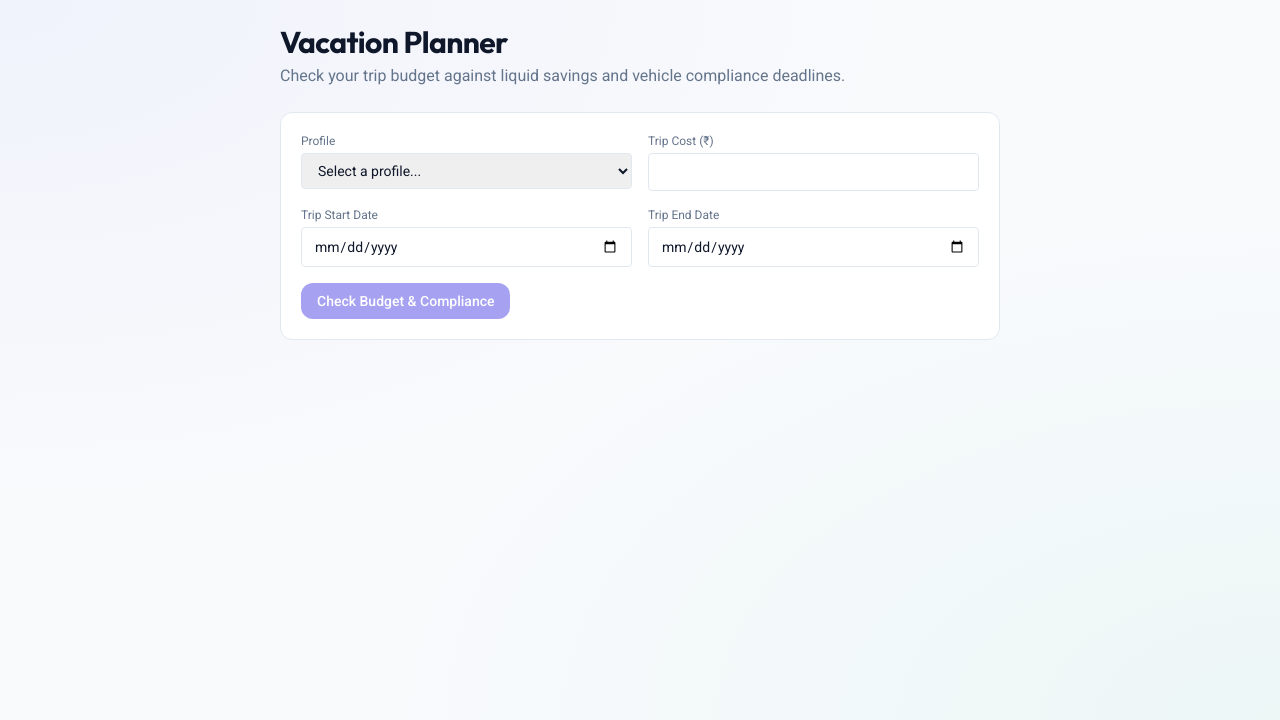
Test case: VacationPlanner page › shows UNAVAILABLE budget status with message when liquidity data is missing
Select "Alice" in the dropdown labelled "Profile" at (466, 171), box x1=301 y1=153 x2=632 y2=189
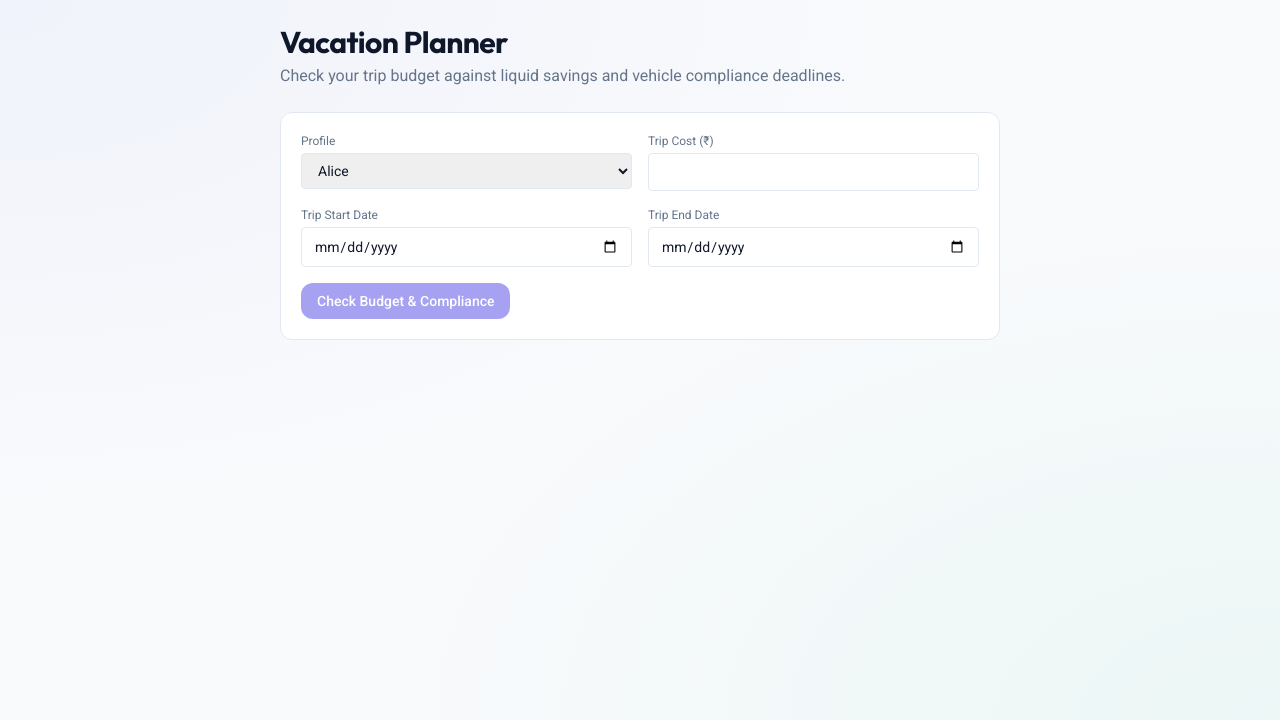
Type "50000" into the number field labelled "Trip Cost (₹)".
click(814, 172); type("50000")  # box x1=648 y1=153 x2=979 y2=191
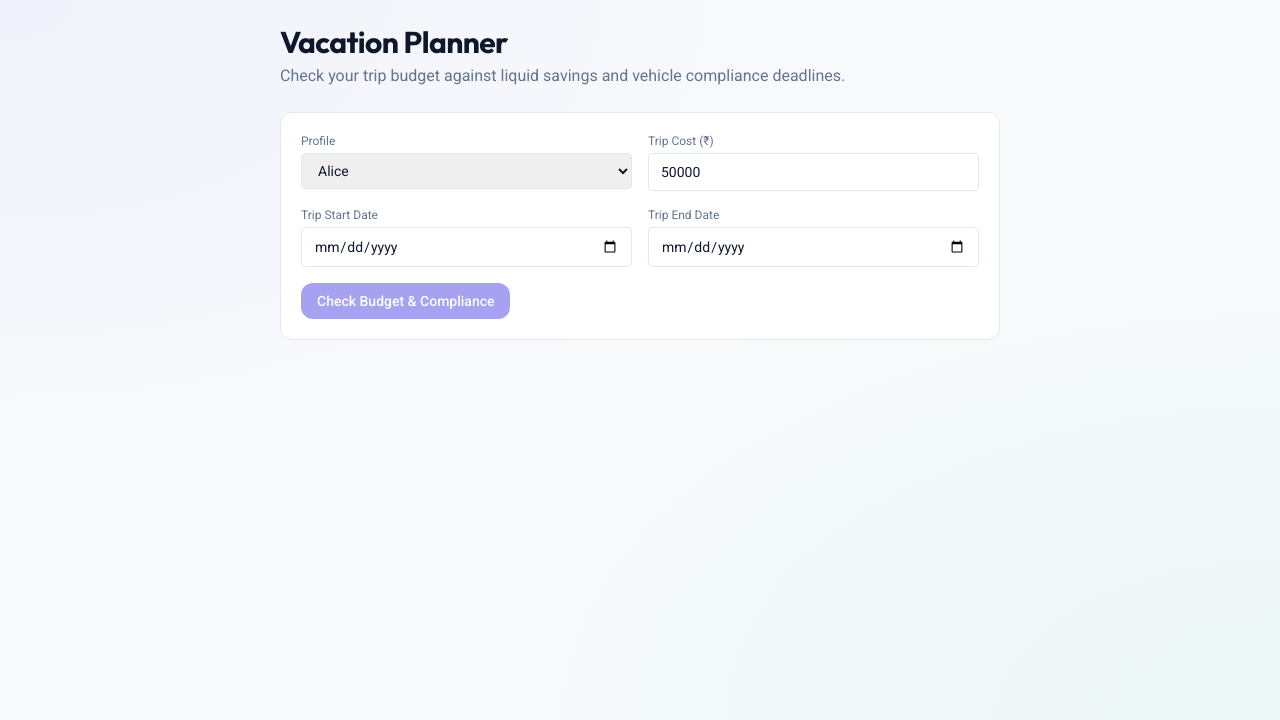
Type "2026-08-10" into the date field labelled "Trip End Date".
click(814, 247); type("2026-08-10")  # box x1=648 y1=227 x2=979 y2=267
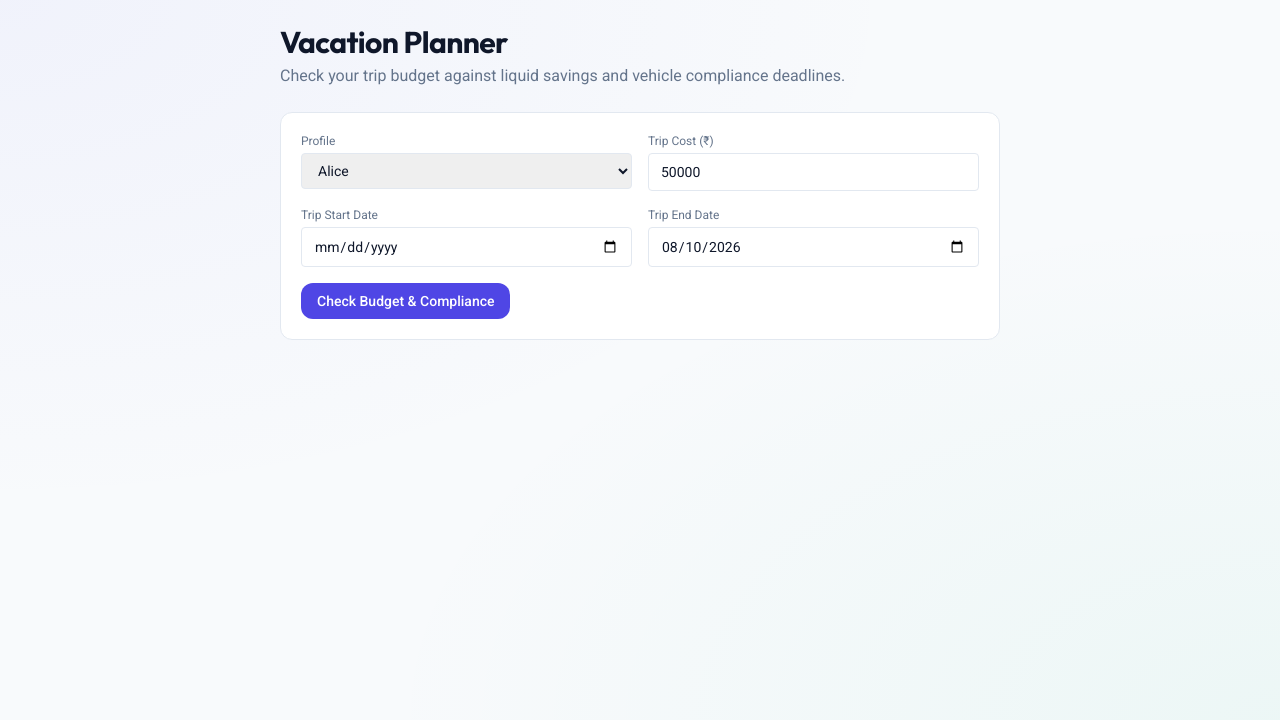
Click the button "Check Budget & Compliance".
click(406, 301)  # box x1=301 y1=283 x2=510 y2=319
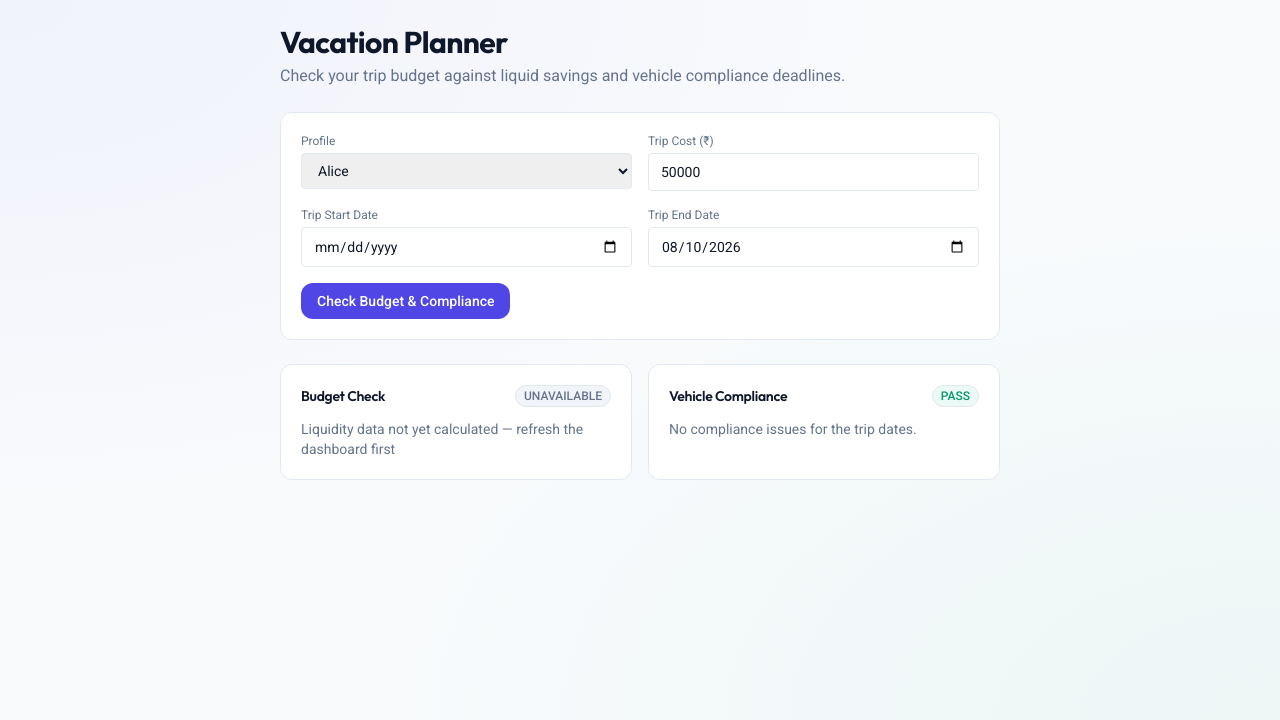
Now the text "refresh the dashboard first" is shown, box x1=301 y1=421 x2=583 y2=457
